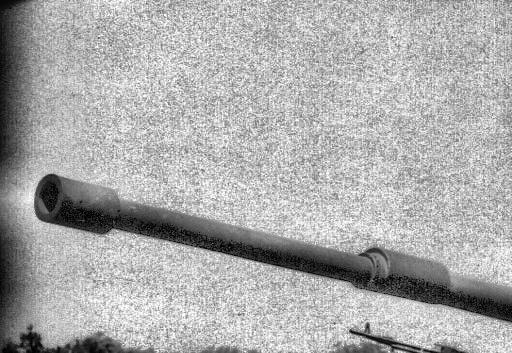tanks: (35, 177, 512, 323)
